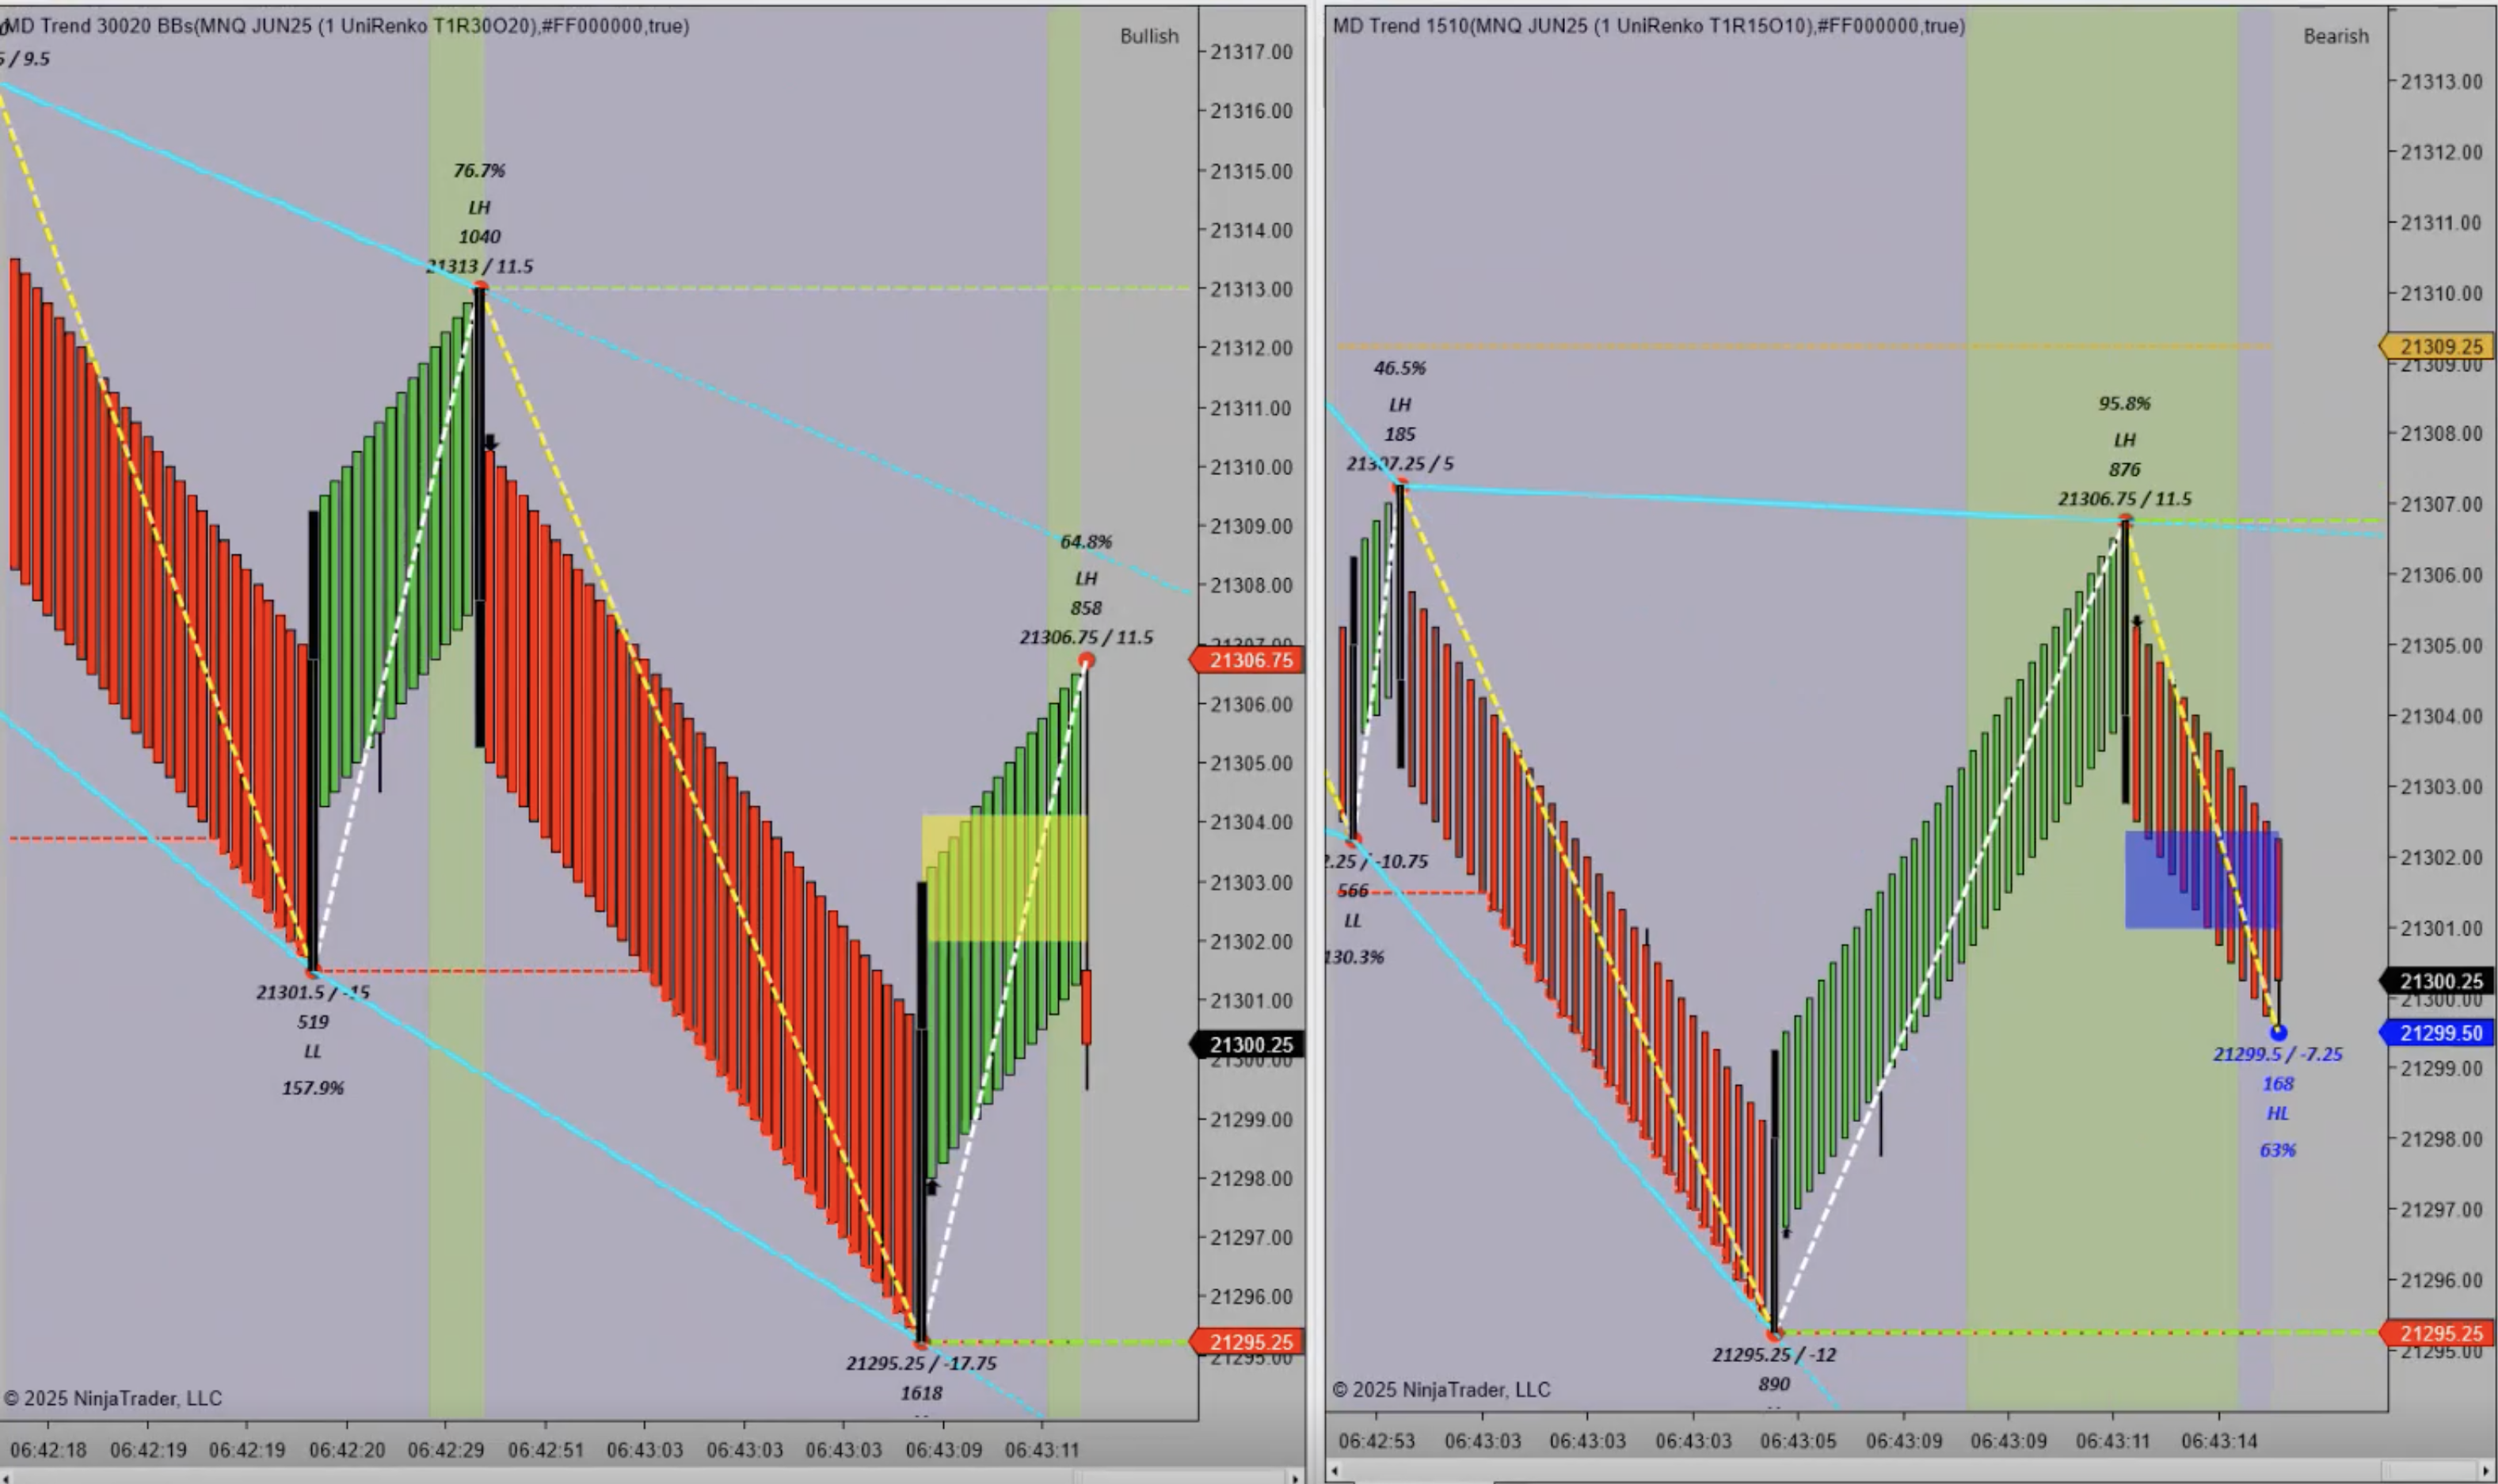candle: (912, 878, 935, 1339), (472, 283, 491, 751), (307, 509, 323, 984), (2116, 514, 2138, 811), (1389, 479, 1410, 774), (1767, 1048, 1786, 1325), (1346, 551, 1360, 832)
